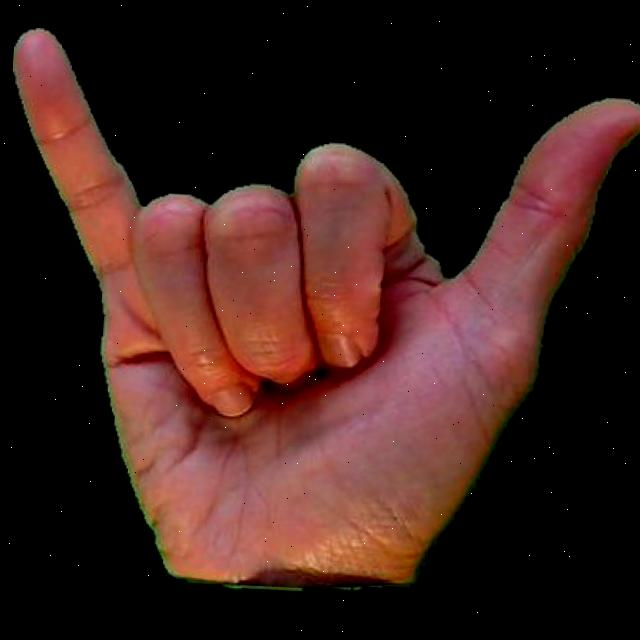y: (0, 6, 640, 629)
